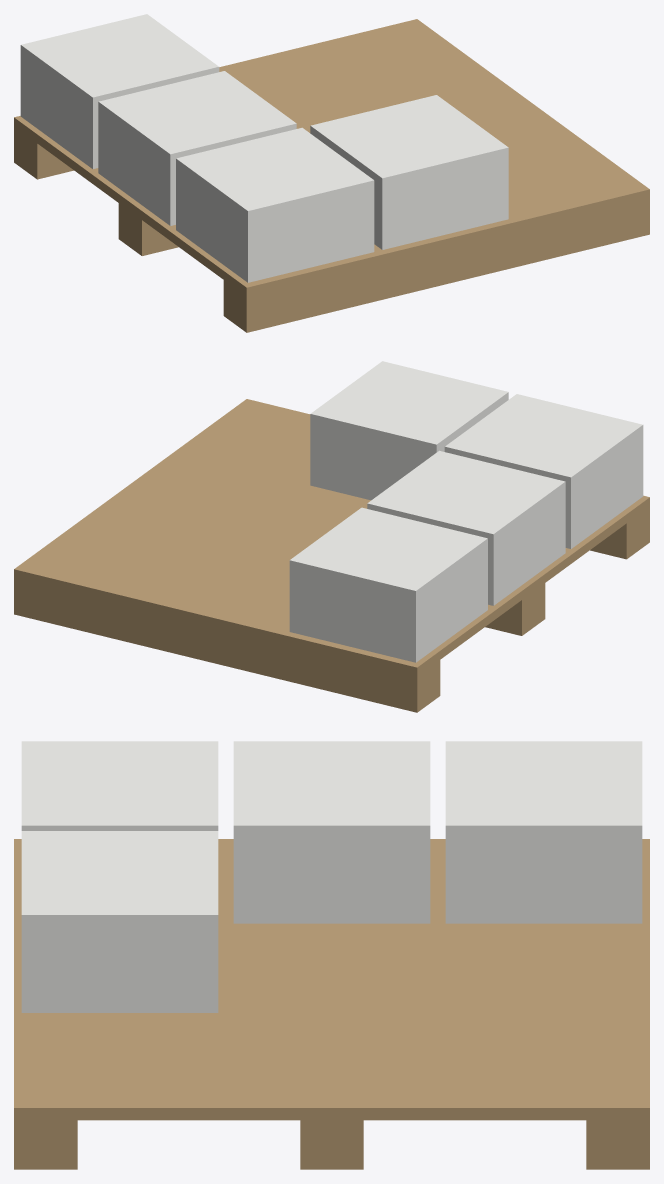
File: pallet_mp_04.glb
3 renders of one model, top to bottom at view 1: azimuth 30°, elevation 25°; view 2: azimuth 150°, elevation 25°; view 3: azimuth 270°, elevation 25°, orthographic. The views are drawn at different scales.
Parts seen in each view (by area): view 1: PalletMP; view 2: PalletMP; view 3: PalletMP.
Boxes of the visible parts, left/top/right/bottom form: PalletMP: left=14, top=14, right=649, bottom=332; PalletMP: left=14, top=361, right=649, bottom=712; PalletMP: left=14, top=741, right=649, bottom=1169.
Bounding box in the file's own units: 1 × 0.2814 × 1.
